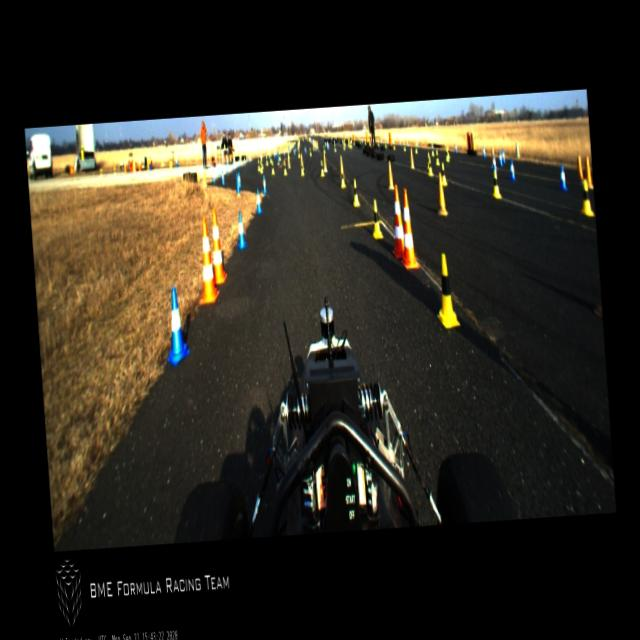blue_cone: (162, 286, 190, 366), (235, 211, 248, 249), (558, 164, 568, 191), (255, 188, 262, 214), (508, 158, 516, 180), (261, 174, 267, 193), (236, 170, 242, 189), (491, 154, 497, 172), (501, 148, 506, 164), (498, 150, 502, 166), (221, 170, 225, 185), (212, 168, 216, 182), (454, 141, 458, 154), (482, 144, 485, 158), (225, 162, 228, 175), (282, 149, 286, 157), (242, 156, 245, 166), (248, 154, 251, 163), (273, 149, 276, 158), (218, 166, 220, 179), (232, 161, 234, 172), (238, 158, 240, 168)
large_orange_cone: (192, 216, 220, 304), (395, 188, 420, 270), (208, 208, 228, 284), (388, 184, 407, 258)
unknown_cone: (434, 172, 448, 216), (584, 156, 594, 188), (575, 155, 585, 186), (386, 160, 395, 189), (488, 146, 498, 169), (234, 172, 242, 197), (338, 154, 345, 177), (408, 146, 414, 168), (514, 140, 520, 158), (322, 152, 327, 172), (286, 152, 291, 169), (300, 152, 304, 170), (276, 150, 280, 165)
yellow_cone: (433, 254, 461, 328), (577, 178, 595, 216), (369, 198, 383, 240), (491, 170, 501, 198), (351, 178, 360, 206), (440, 162, 447, 186), (426, 157, 434, 176), (339, 167, 346, 188), (434, 150, 440, 166), (444, 146, 449, 162), (426, 150, 430, 169), (282, 160, 287, 174), (430, 142, 435, 156), (320, 160, 324, 177), (300, 160, 304, 176), (256, 158, 260, 172), (270, 161, 274, 174), (264, 154, 268, 167), (260, 156, 264, 169), (446, 145, 450, 158), (308, 146, 312, 158), (414, 143, 418, 154), (342, 142, 346, 152), (259, 160, 262, 173), (392, 141, 396, 150), (322, 144, 325, 155), (402, 142, 406, 150), (269, 153, 272, 163), (278, 151, 281, 160), (333, 144, 336, 152), (384, 140, 387, 148), (298, 149, 300, 158)
